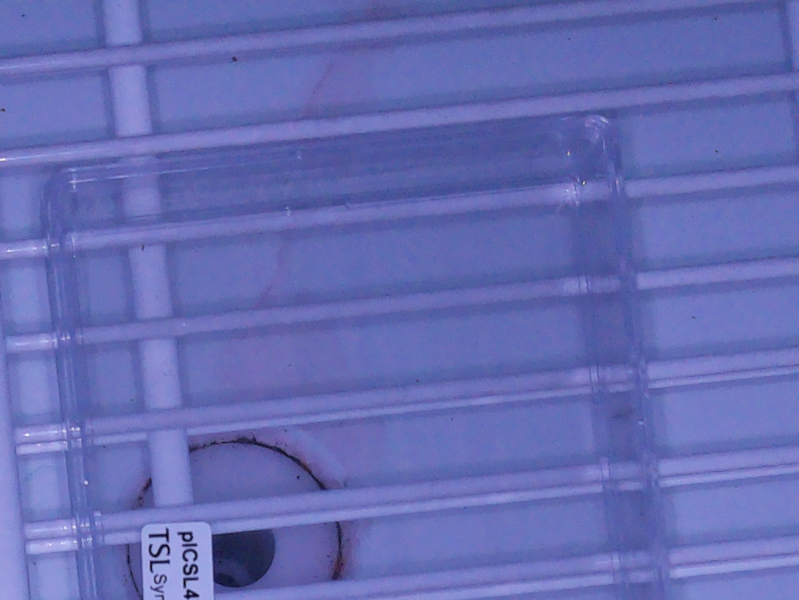plate: (42, 108, 673, 600)
